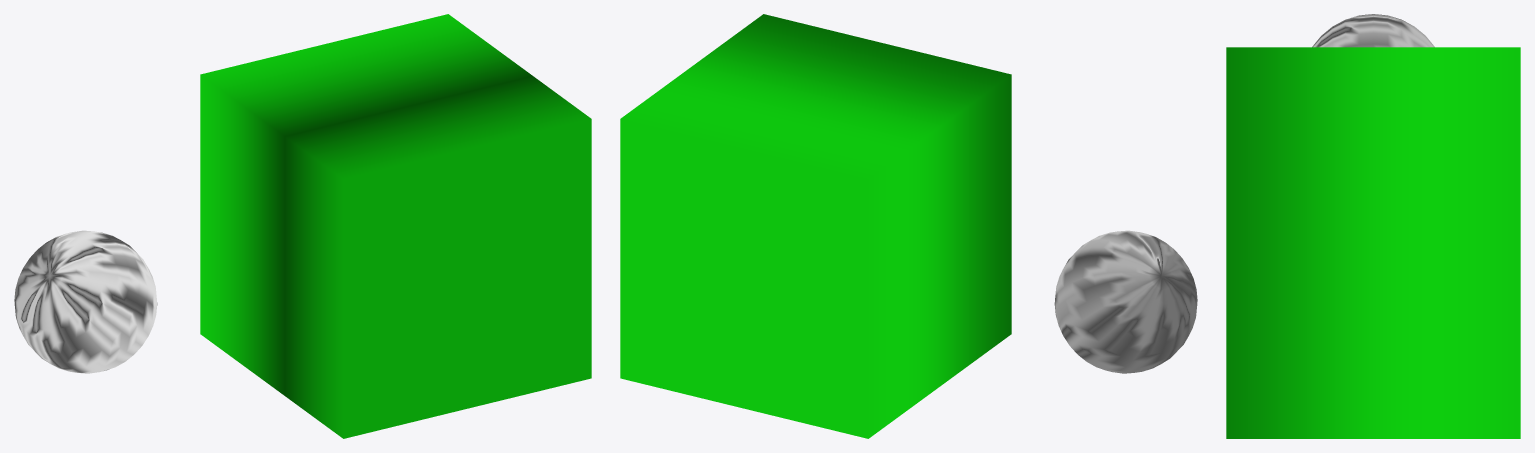
The model's file is attributes.glb.
3 renders of one model, left to right at view 1: azimuth 30°, elevation 25°; view 2: azimuth 150°, elevation 25°; view 3: azimuth 270°, elevation 25°, orthographic. The views are drawn at different scales.
Parts seen in each view (by area): view 1: Cube, Sphere; view 2: Cube, Sphere; view 3: Cube, Sphere.
Part boxes in pixels (x1,y1,x2,y2): Cube: (200, 14, 591, 438); Sphere: (14, 230, 157, 373); Cube: (620, 14, 1011, 438); Sphere: (1054, 230, 1197, 373); Cube: (1226, 47, 1520, 438); Sphere: (1312, 14, 1434, 47).
Bounding box in the file's own units: 8 × 4 × 4.
